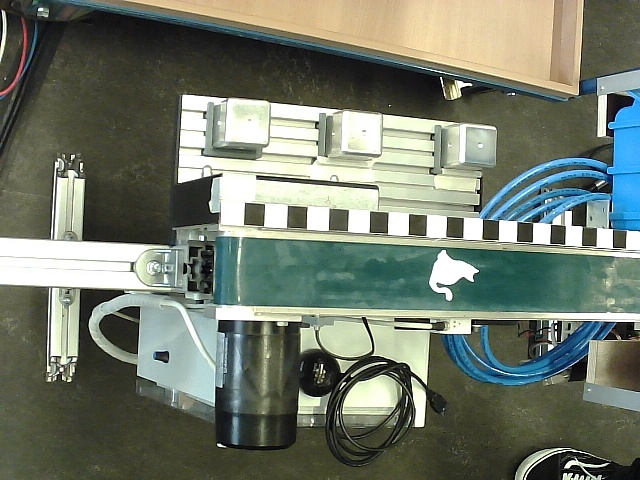cat: (429, 250, 481, 302)
